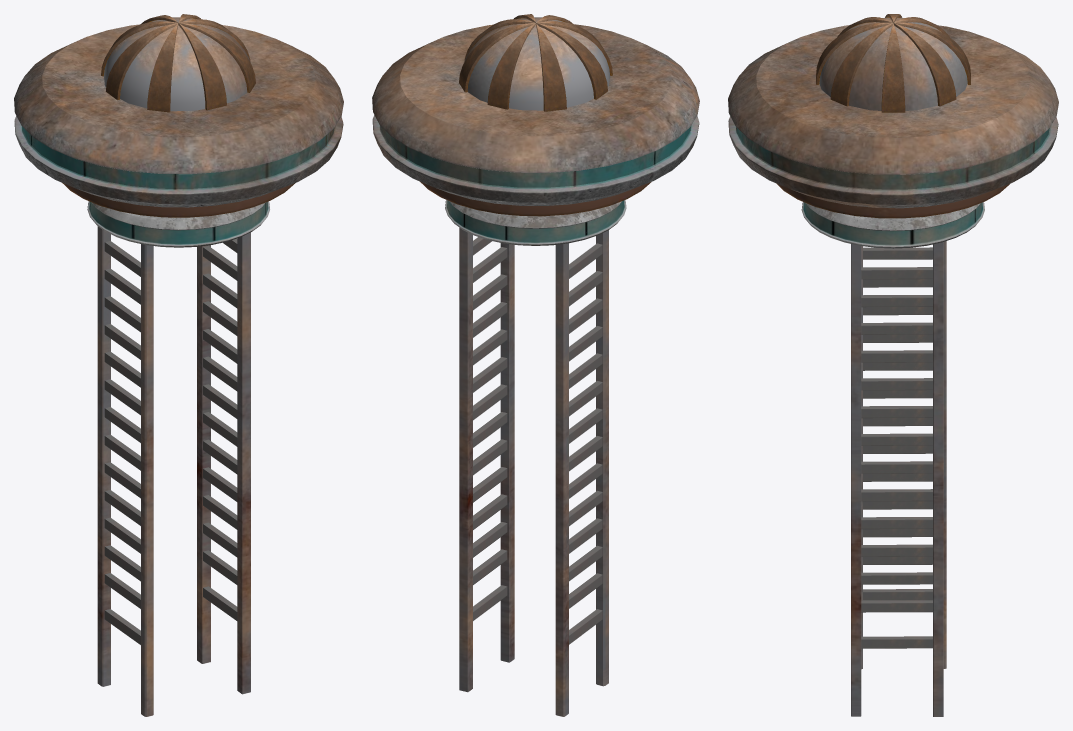
The model's file is observatorio.glb.
The picture shows the model from 3 angles, left to right: view 1: azimuth 30°, elevation 25°; view 2: azimuth 150°, elevation 25°; view 3: azimuth 270°, elevation 25°; orthographic projection.
Parts seen in each view (by area): view 1: TallBulding_top_and_bottom_support_bulding_03_0_0, TallBulding_Bulding_main_03_0_1, TallBulding_bulding_botton_03_0_2; view 2: TallBulding_top_and_bottom_support_bulding_03_0_0, TallBulding_Bulding_main_03_0_1, TallBulding_bulding_botton_03_0_2; view 3: TallBulding_top_and_bottom_support_bulding_03_0_0, TallBulding_Bulding_main_03_0_1, TallBulding_bulding_botton_03_0_2.
Part boxes in pixels (x1,y1,x2,y2): TallBulding_top_and_bottom_support_bulding_03_0_0: [97, 14, 255, 716]; TallBulding_Bulding_main_03_0_1: [14, 24, 343, 217]; TallBulding_bulding_botton_03_0_2: [87, 201, 269, 247]; TallBulding_top_and_bottom_support_bulding_03_0_0: [459, 14, 612, 716]; TallBulding_Bulding_main_03_0_1: [372, 24, 699, 216]; TallBulding_bulding_botton_03_0_2: [445, 200, 626, 245]; TallBulding_top_and_bottom_support_bulding_03_0_0: [816, 14, 970, 716]; TallBulding_Bulding_main_03_0_1: [728, 25, 1058, 218]; TallBulding_bulding_botton_03_0_2: [801, 202, 984, 248].
Bounding box in the file's own units: 2.24 × 5 × 2.24.
3 materials, 3 textured.
